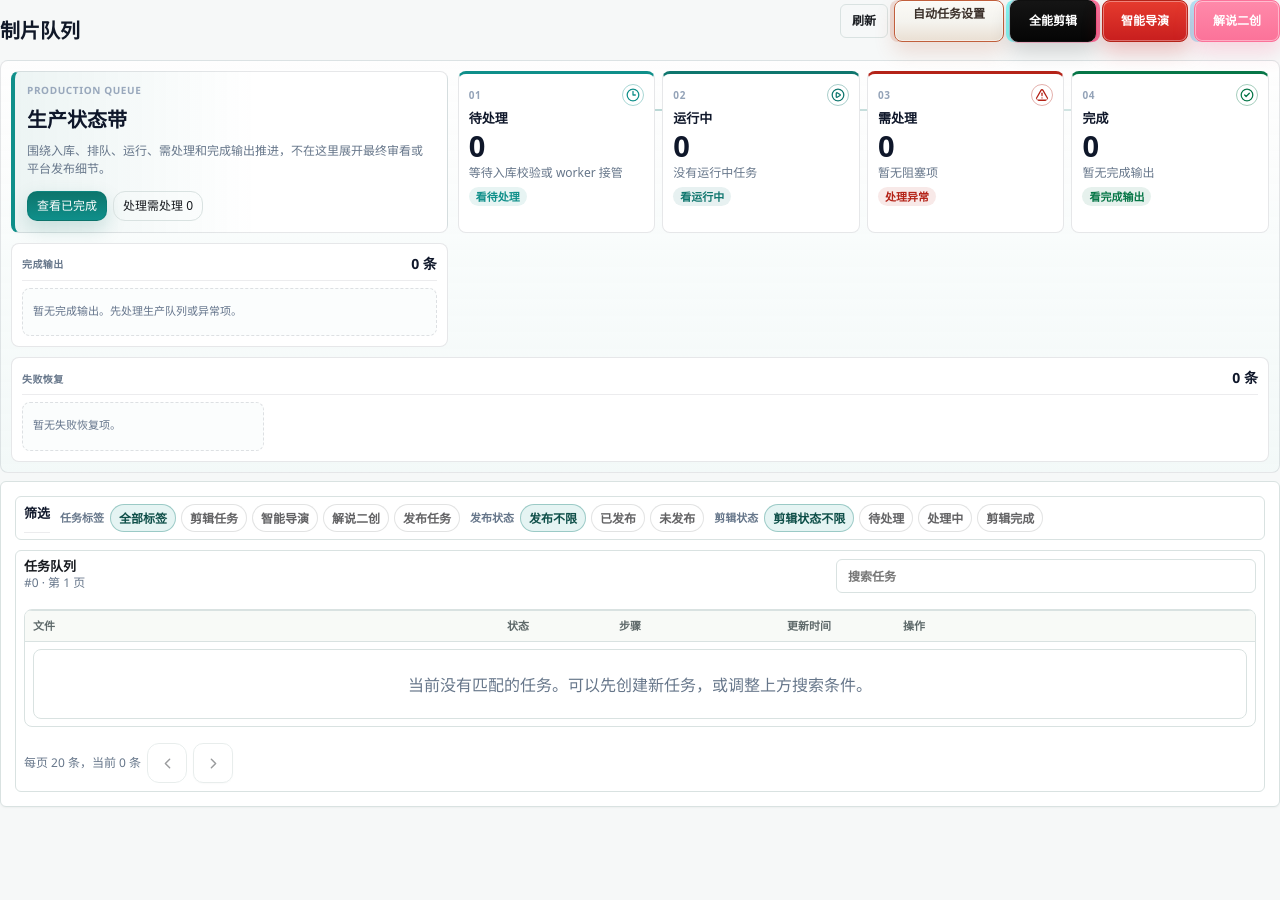
Scenario: JobsPage audit interactions › opens the smart director create modal from the red header action
Click the button "智能导演" in the row of "自动任务设置": click(1145, 21) [1102,0,1188,42]
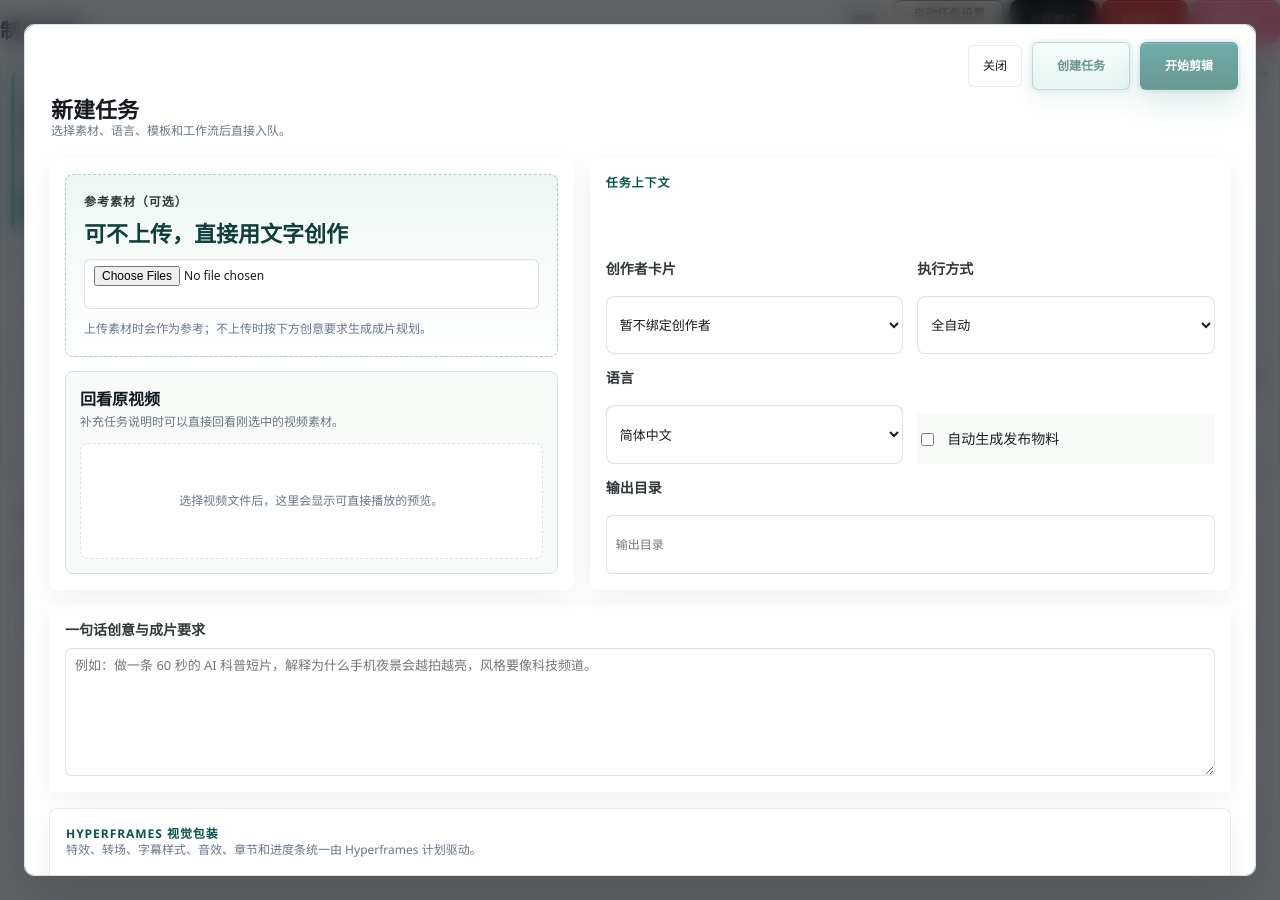
Result: the dialog named "智能导演" is shown
Result: the text box labelled "一句话创意与成片要求" is shown at [65,648,1215,776]
